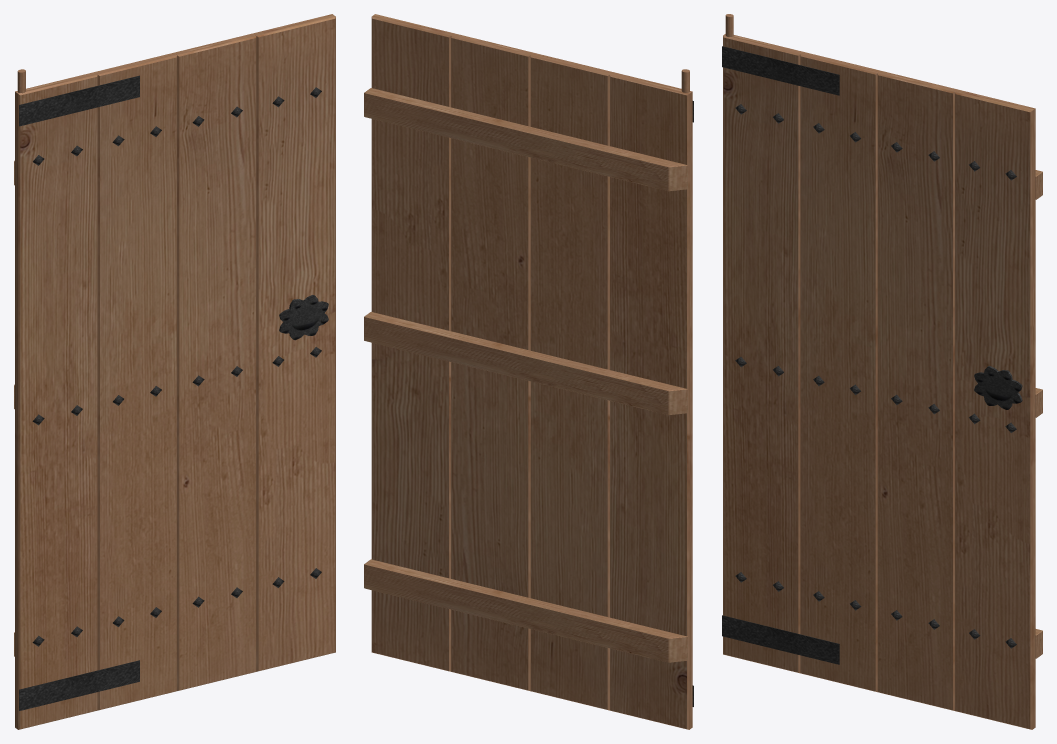
The model's file is SM_Yeonkyung_Jangyangmoon_Door_C_001.fbx.
3 renders of one model, left to right at view 1: azimuth 30°, elevation 25°; view 2: azimuth 150°, elevation 25°; view 3: azimuth 330°, elevation 25°, orthographic. The views are drawn at different scales.
Visible parts, largest first — view 1: SM_Yeonkyung_Jangyangmoon_Door_C_001; view 2: SM_Yeonkyung_Jangyangmoon_Door_C_001; view 3: SM_Yeonkyung_Jangyangmoon_Door_C_001.
Part boxes in pixels (box(x1,y1,x2,y2)): SM_Yeonkyung_Jangyangmoon_Door_C_001: box(14, 14, 335, 729); SM_Yeonkyung_Jangyangmoon_Door_C_001: box(364, 14, 693, 729); SM_Yeonkyung_Jangyangmoon_Door_C_001: box(722, 14, 1042, 729).
Size of the model in its own units: 115 by 228 by 9.49.
